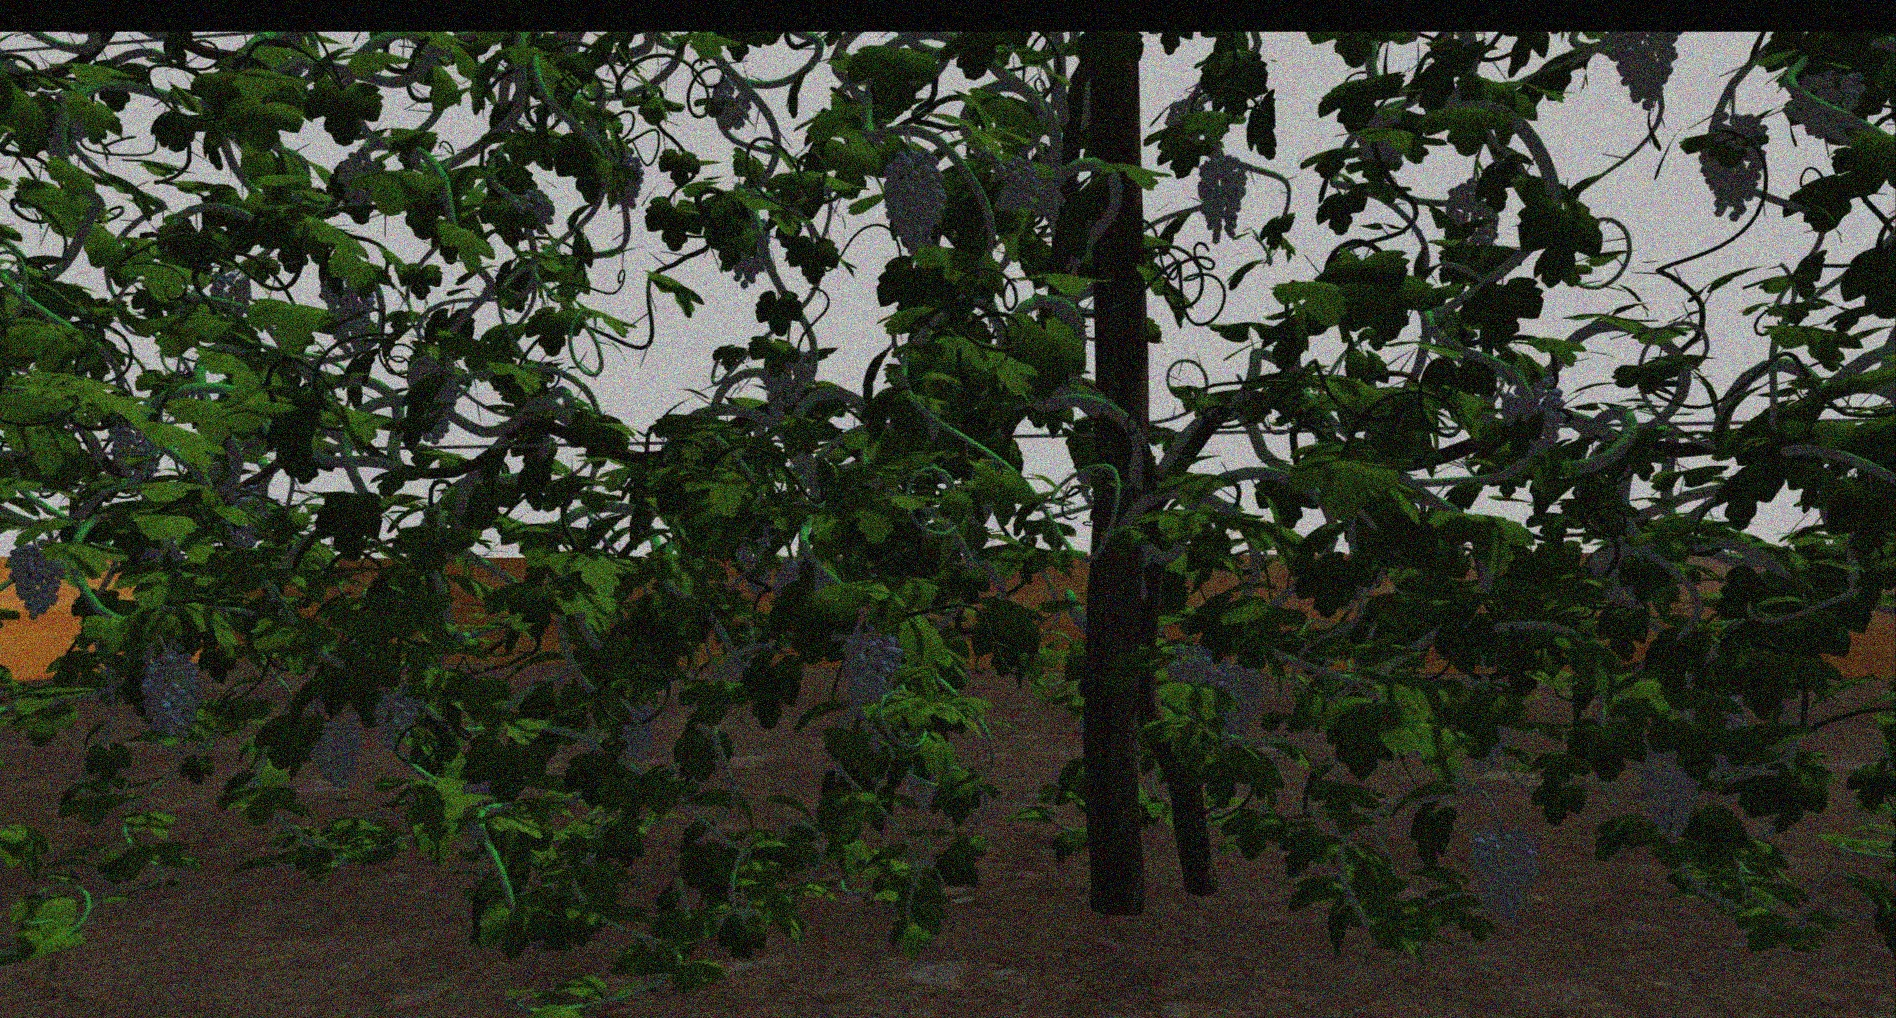grape: (1463, 825, 1541, 925), (1697, 112, 1767, 221), (880, 140, 947, 255), (1634, 751, 1697, 842), (1783, 70, 1865, 140), (139, 649, 199, 743), (1609, 35, 1682, 110), (1500, 376, 1565, 454), (839, 631, 898, 716), (405, 357, 461, 444), (8, 534, 61, 619), (1211, 661, 1261, 746), (1198, 155, 1246, 242), (316, 285, 376, 352), (1445, 176, 1501, 244), (757, 345, 810, 417), (310, 718, 362, 791), (607, 700, 657, 763), (371, 690, 416, 751), (989, 155, 1036, 212), (110, 422, 153, 479), (337, 150, 379, 207), (1162, 644, 1214, 687), (712, 79, 752, 132), (209, 270, 250, 318), (513, 189, 556, 232)
